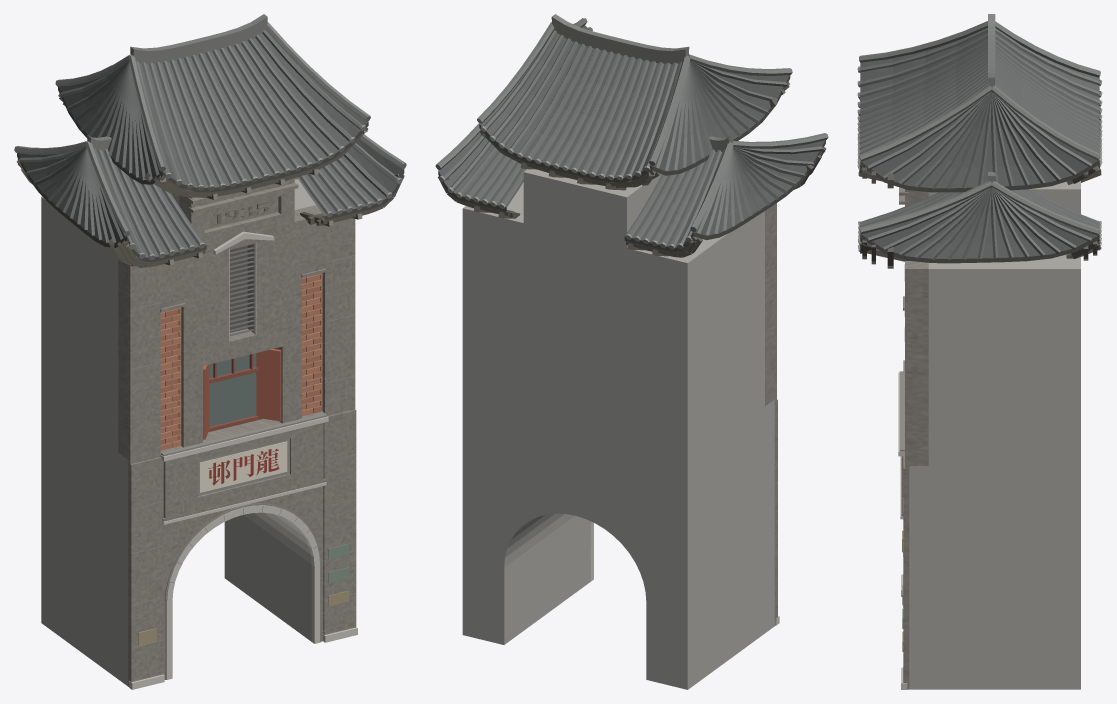
The model's file is huangpu-longmen-village-gatehouse-lod.glb.
3 renders of one model, left to right at view 1: azimuth 30°, elevation 25°; view 2: azimuth 150°, elevation 25°; view 3: azimuth 270°, elevation 25°, orthographic.
Visible parts, largest first — view 1: 龙门邨尚文路总弄过街楼; view 2: 龙门邨尚文路总弄过街楼; view 3: 龙门邨尚文路总弄过街楼.
Boxes of the visible parts, x1,y1,x2,y2 form: 龙门邨尚文路总弄过街楼: (14, 14, 406, 689); 龙门邨尚文路总弄过街楼: (435, 14, 828, 689); 龙门邨尚文路总弄过街楼: (857, 14, 1102, 689).
Bounding box in the file's own units: 7.62 × 15.35 × 5.78.
Materials: 25 (1 with a texture image).
